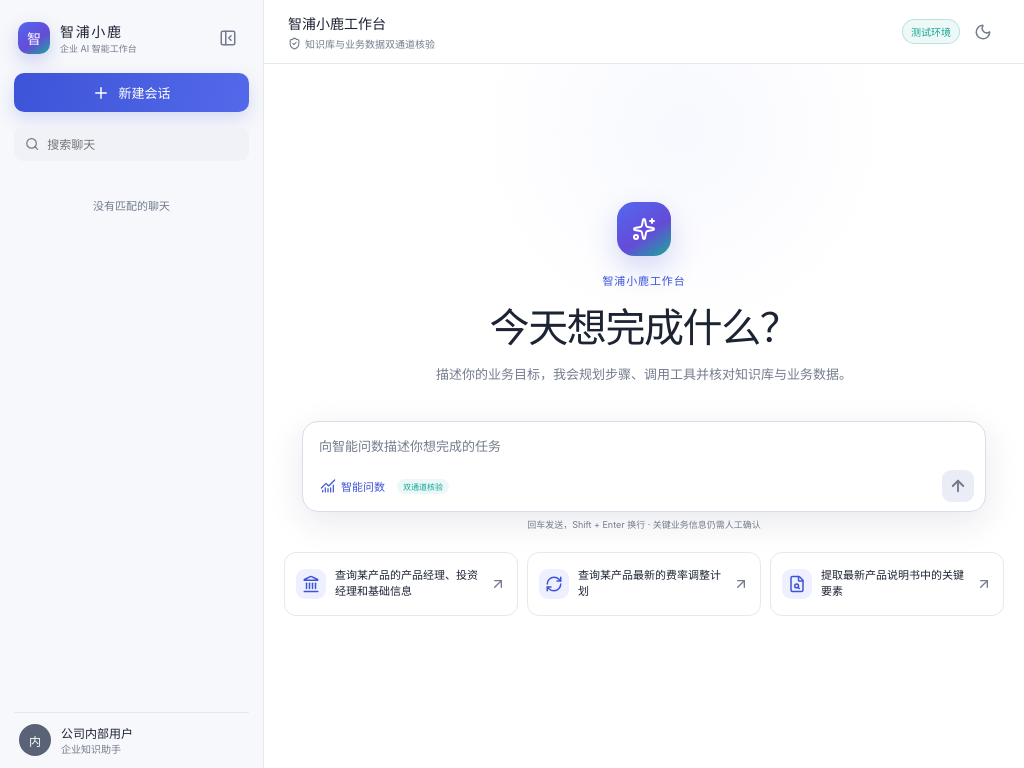
Scenario: App › 完成从空白页到流式答案的主流程
Check: the heading "今天想完成什么？" is shown, box [490, 296, 798, 354]
Check: the button with aria-label "选择问答功能，当前：智能问数" is shown, box [314, 471, 391, 501]
Type "产品经理是谁" into the text box named "输入问题".
click(644, 450); type("产品经理是谁")  # box [314, 431, 974, 469]
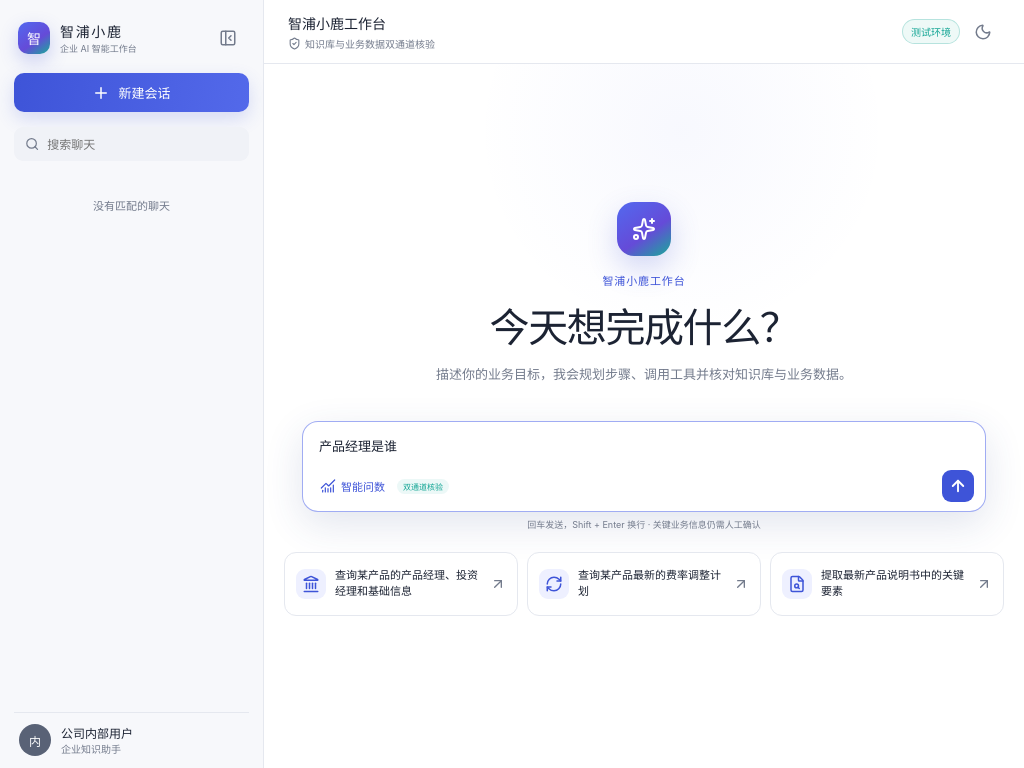
Click the button named "发送问题".
click(958, 486)  # box [942, 470, 974, 502]
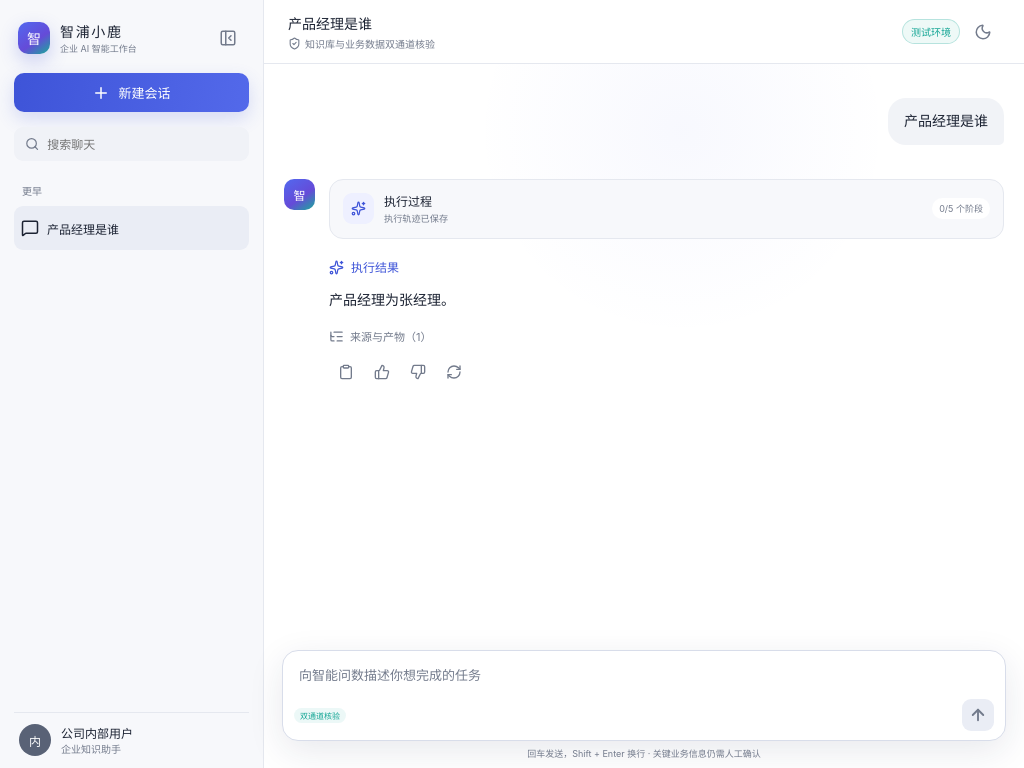
Check: the text "产品经理为张经理。" is shown, box [329, 290, 455, 308]
Check: the heading "来源与产物（1）" is shown, box [329, 328, 432, 344]
